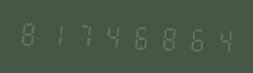eight: (17, 16, 43, 50), (152, 20, 178, 54)
four: (206, 22, 232, 56), (98, 19, 124, 52)
one: (44, 17, 70, 51)
seven: (71, 18, 97, 51)
six: (125, 19, 151, 53), (179, 21, 205, 55)
